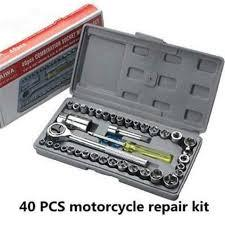wrench: (45, 121, 148, 165)
